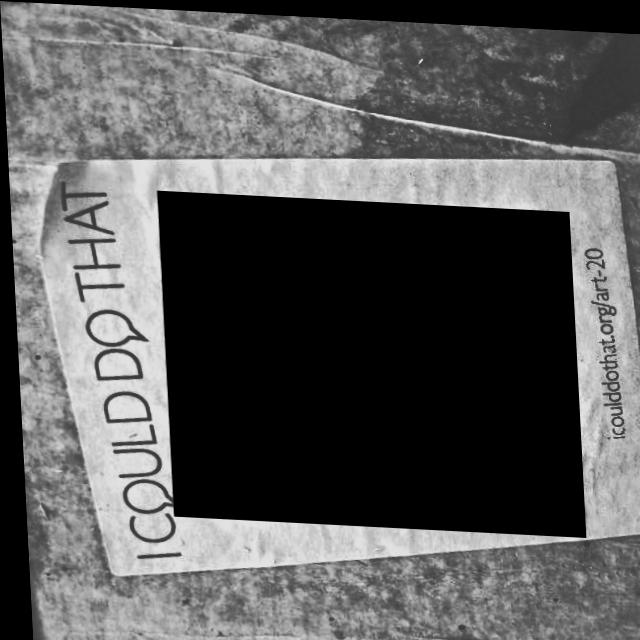qr_code: (155, 188, 581, 531)
